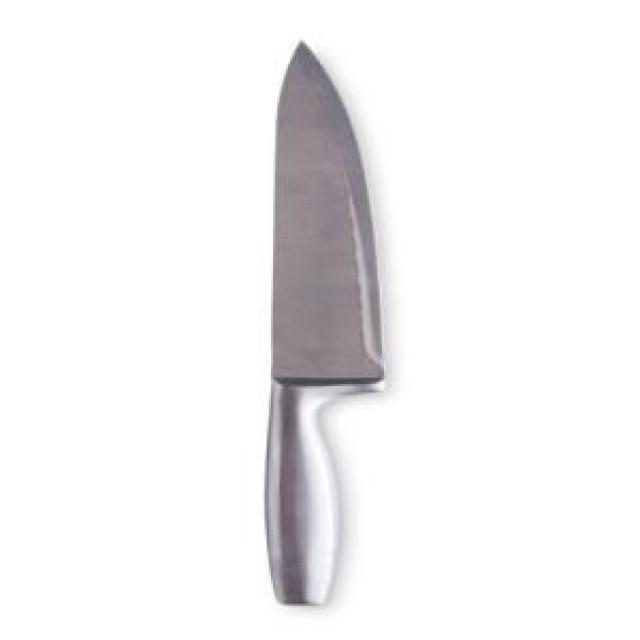knife: (252, 30, 391, 620)
